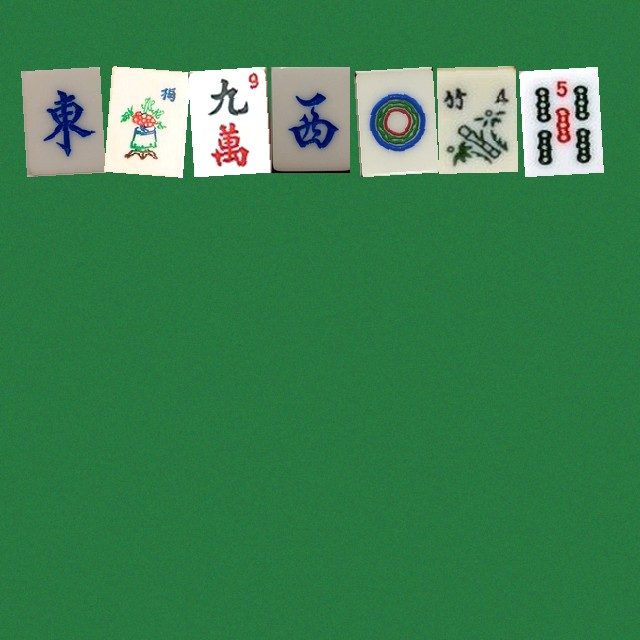tile: (21, 66, 100, 172), (104, 66, 183, 172), (187, 66, 266, 172), (270, 66, 349, 172), (353, 66, 432, 172), (436, 66, 515, 172), (519, 66, 598, 172)
